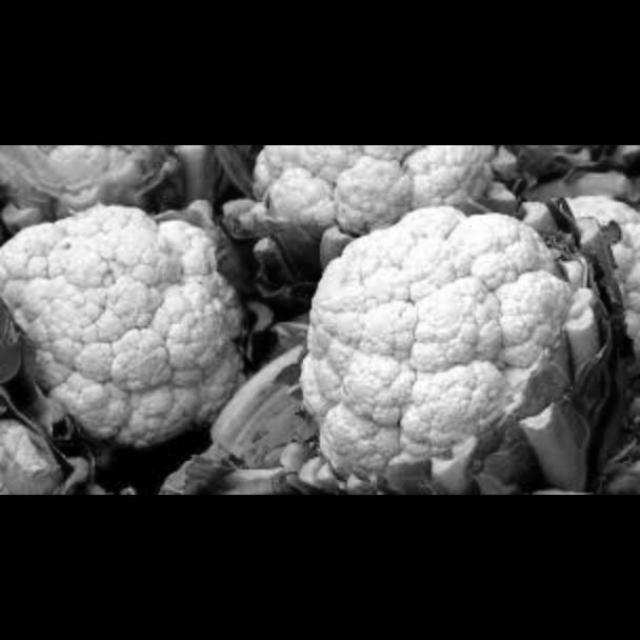sup lo: (299, 199, 577, 462), (0, 204, 259, 444), (227, 145, 512, 236), (518, 180, 640, 351), (0, 145, 173, 192), (0, 420, 74, 494)
